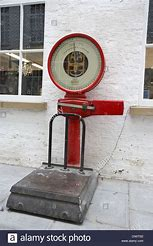Industrial Scale: (2, 31, 124, 225)
